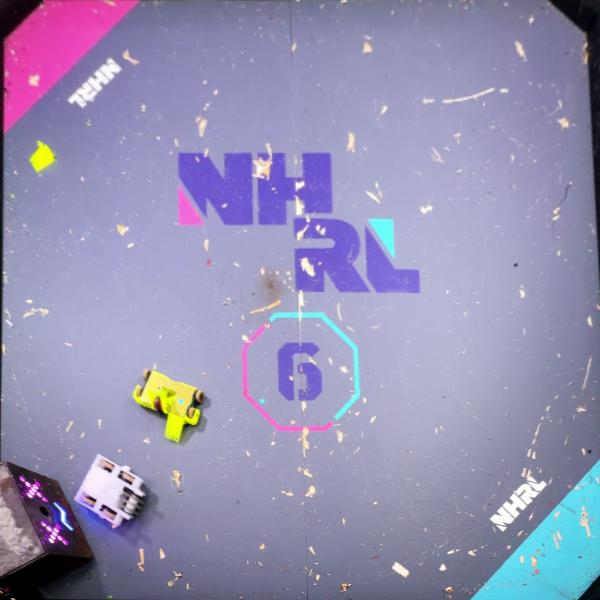housebot: (0, 460, 92, 600)
robot: (133, 366, 204, 444), (75, 454, 147, 530)
